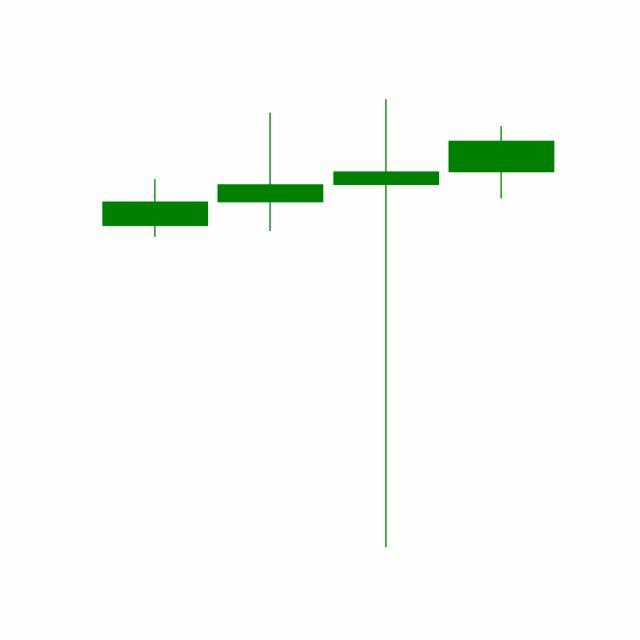Marubozu: (444, 125, 560, 200)
